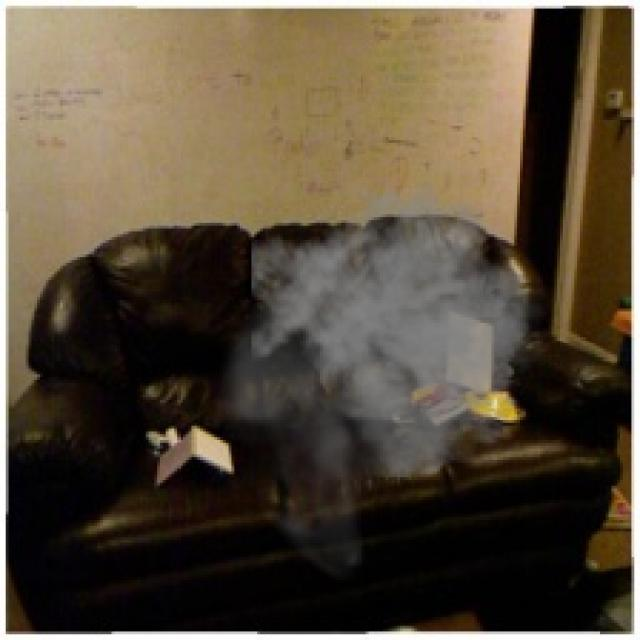smoke: (209, 177, 554, 586)
